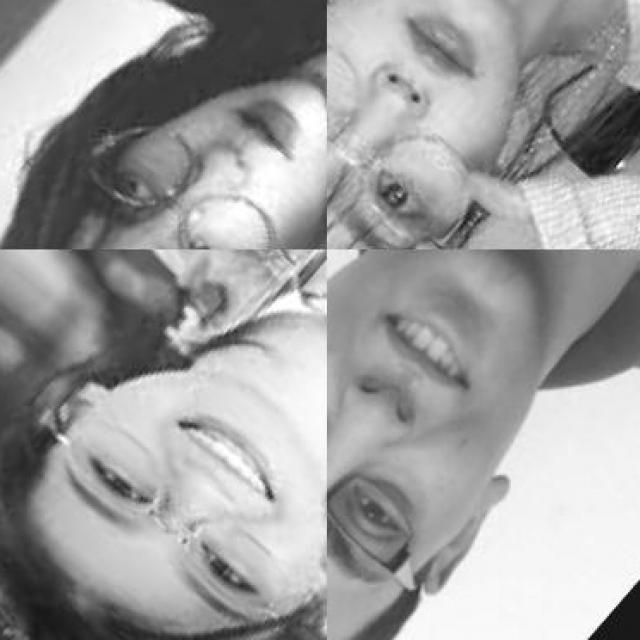Glasses: (19, 380, 325, 640), (327, 0, 518, 248), (52, 84, 325, 248), (327, 346, 464, 638)
